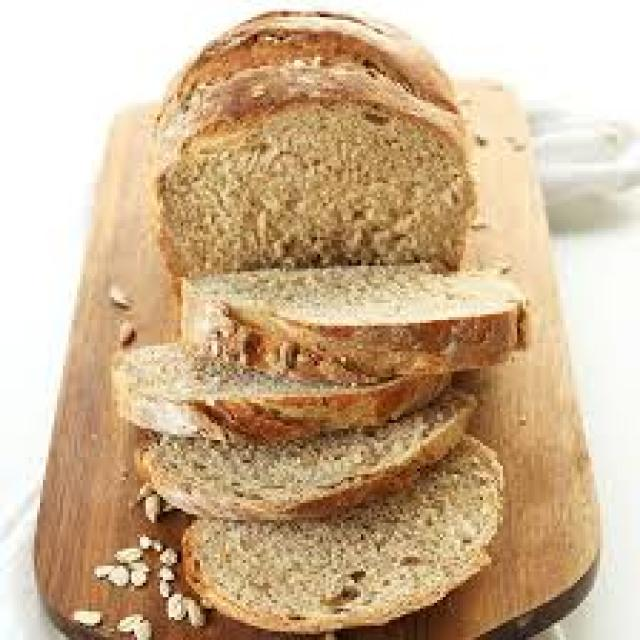Bread: (185, 435, 504, 633), (159, 102, 471, 276), (142, 392, 475, 521), (182, 266, 522, 378), (116, 342, 450, 441)
